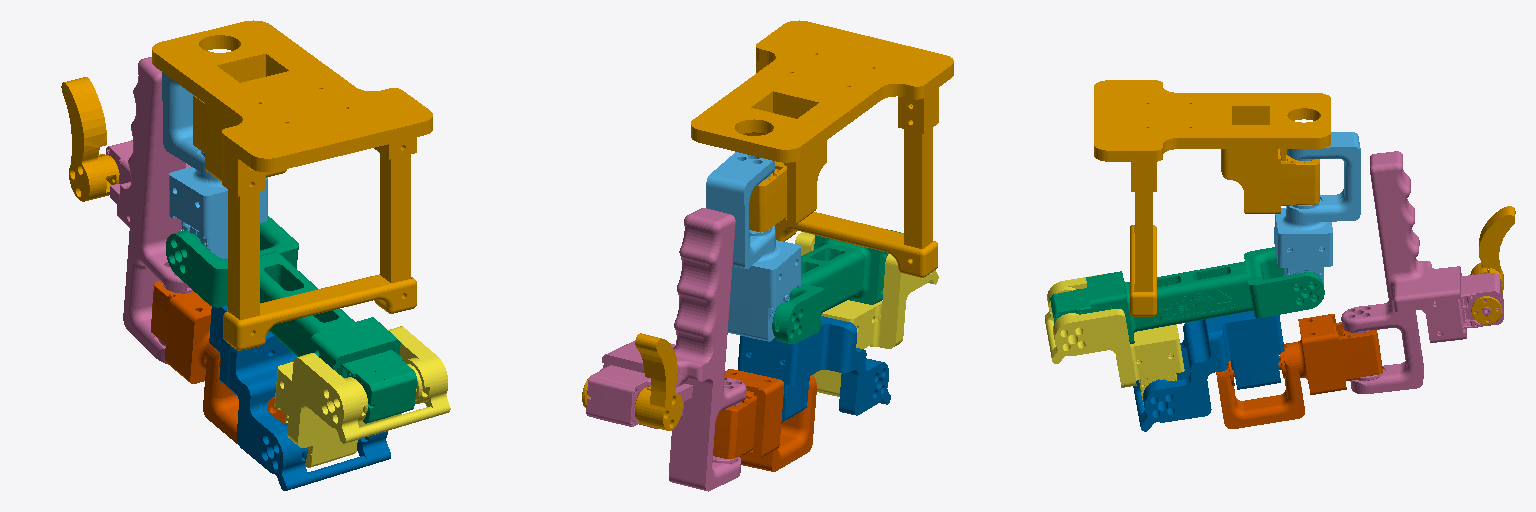
URDF robot description (uarm_config2_repaired_visual):
<?xml version='1.0' encoding='utf-8'?>
<robot name="uarm_config2_repaired_visual">
  <link name="base_link">
    <visual>
      <geometry>
        <mesh filename="base_link.stl" scale="1 1 1" />
      </geometry>
    </visual>
    <collision>
      <geometry>
        <mesh filename="base_link.stl" scale="1 1 1" />
      </geometry>
    </collision>
  </link>
  <link name="link1">
    <visual>
      <geometry>
        <mesh filename="link1.stl" scale="1 1 1" />
      </geometry>
    </visual>
    <collision>
      <geometry>
        <mesh filename="link1.stl" scale="1 1 1" />
      </geometry>
    </collision>
  </link>
  <link name="link2">
    <visual>
      <geometry>
        <mesh filename="link2.stl" scale="1 1 1" />
      </geometry>
    </visual>
    <collision>
      <geometry>
        <mesh filename="link2.stl" scale="1 1 1" />
      </geometry>
    </collision>
  </link>
  <link name="link3">
    <visual>
      <geometry>
        <mesh filename="link3.stl" scale="1 1 1" />
      </geometry>
    </visual>
    <collision>
      <geometry>
        <mesh filename="link3.stl" scale="1 1 1" />
      </geometry>
    </collision>
  </link>
  <link name="link4">
    <visual>
      <geometry>
        <mesh filename="link4.stl" scale="1 1 1" />
      </geometry>
    </visual>
    <collision>
      <geometry>
        <mesh filename="link4.stl" scale="1 1 1" />
      </geometry>
    </collision>
  </link>
  <link name="link5">
    <visual>
      <geometry>
        <mesh filename="link5.stl" scale="1 1 1" />
      </geometry>
    </visual>
    <collision>
      <geometry>
        <mesh filename="link5.stl" scale="1 1 1" />
      </geometry>
    </collision>
  </link>
  <link name="link6">
    <visual>
      <geometry>
        <mesh filename="link6.stl" scale="1 1 1" />
      </geometry>
    </visual>
    <collision>
      <geometry>
        <mesh filename="link6.stl" scale="1 1 1" />
      </geometry>
    </collision>
  </link>
  <joint name="joint1" type="continuous">
    <parent link="base_link" />
    <child link="link1" />
    <origin xyz="-0.08658114044817233 0.046659853944596305 0.11858141748276414" rpy="-0.00872664626 -4.440892098500626e-16 3.469446951953614e-18" />
    <axis xyz="0 0 1" />
    <limit effort="1" velocity="6.28318531" />
  </joint>
  <joint name="joint2" type="continuous">
    <parent link="link1" />
    <child link="link2" />
    <origin xyz="0.004061095285957522 0.00039647338195671067 -0.06713444610278956" rpy="-0.7843287810000079 -1.5584680099999997 -2.291919849999992" />
    <axis xyz="0 0 1" />
    <limit effort="1" velocity="6.28318531" />
  </joint>
  <joint name="joint3" type="continuous">
    <parent link="link2" />
    <child link="link3" />
    <origin xyz="-0.025630710555286207 0.15339323276039843 4.920744263850474e-06" rpy="0.008606016479999996 0.0014459899300001133 8.264550330000075e-05" />
    <axis xyz="0 0 1" />
    <limit effort="1" velocity="6.28318531" />
  </joint>
  <joint name="joint4" type="continuous">
    <parent link="link3" />
    <child link="link4" />
    <origin xyz="-0.049491961855527844 -0.05873502499891754 0.0010171489711825188" rpy="-0.0012738504100000014 0.00863317441000011 -2.3230171600000112e-05" />
    <axis xyz="0 0 1" />
    <limit effort="1" velocity="6.28318531" />
  </joint>
  <joint name="joint5" type="continuous">
    <parent link="link4" />
    <child link="link5" />
    <origin xyz="0.011621540847943273 -0.06778105240726977 -0.003707712741363639" rpy="-1.5707963299999648 -1.56288489 -3.001830100000035" />
    <axis xyz="0 0 1" />
    <limit effort="1" velocity="6.28318531" />
  </joint>
  <joint name="joint6" type="continuous">
    <parent link="link5" />
    <child link="link6" />
    <origin xyz="0.0003427623298188631 0.0034648529691476485 0.06713444611594567" rpy="1.5620454000000001 0.07450727070000007 -0.004068700780000101" />
    <axis xyz="0 0 1" />
    <limit effort="1" velocity="6.28318531" />
  </joint>
  <link name="tool0" />
  <joint name="tool0_fixed" type="fixed">
    <parent link="link6" />
    <child link="tool0" />
    <origin xyz="0.017135744404283365 0.08531980020434289 0.03853062780764309" rpy="1.5707963404414487 -1.4390999305933807 1.5674936356501743" />
  </joint>
  <link name="trigger">
    <visual>
      <geometry>
        <mesh filename="trigger.stl" scale="1 1 1" />
      </geometry>
    </visual>
    <collision>
      <geometry>
        <mesh filename="trigger.stl" scale="1 1 1" />
      </geometry>
    </collision>
  </link>
  <joint name="trigger_joint" type="continuous">
    <parent link="link6" />
    <child link="trigger" />
    <origin xyz="0.017135744404283365 0.08531980020434289 0.03853062780764309" rpy="1.5707963404414487 -1.4390999305933807 1.5674936356501743" />
    <axis xyz="0 0 1" />
    <limit effort="1" velocity="6.28318531" />
  </joint>
</robot>

--- Facts derived from the render (not from the file) ---
Views: 3 orthographic renders of the robot side by side, from view 1: azimuth 30°, elevation 25°; view 2: azimuth 150°, elevation 25°; view 3: azimuth 270°, elevation 25°.
Model uarm_config2_repaired_visual with 9 links and 8 joints (7 continuous, 1 fixed), rooted at base_link, posed all joints at 0.
Visible links, largest first — view 1: base_link, link2, link6, link3, link4, link1, link5, trigger; view 2: base_link, link6, link1, link4, link5, link2, link3, trigger; view 3: base_link, link6, link2, link4, link5, link3, link1, trigger.
Boxes of the visible links, box(x1,y1,x2,y2) form: base_link: box(152, 20, 432, 350); link2: box(166, 216, 416, 423); link6: box(106, 57, 193, 363); link3: box(274, 326, 450, 467); link4: box(209, 306, 390, 490); link1: box(162, 51, 267, 258); link5: box(151, 281, 285, 443); trigger: box(61, 77, 119, 201); base_link: box(691, 20, 953, 277); link6: box(586, 208, 746, 491); link1: box(706, 152, 800, 341); link4: box(738, 316, 890, 422); link5: box(713, 369, 816, 471); link2: box(772, 229, 900, 344); link3: box(795, 232, 938, 396); trigger: box(582, 333, 682, 430); base_link: box(1094, 80, 1330, 316); link6: box(1341, 151, 1503, 393); link2: box(1050, 247, 1324, 343); link4: box(1133, 311, 1284, 431); link5: box(1216, 314, 1382, 428); link3: box(1045, 273, 1184, 404); link1: box(1274, 132, 1360, 284); trigger: box(1470, 206, 1515, 324).
Size in the robot's own frame: 0.1097 by 0.3075 by 0.2187 metres.
8 mesh visuals loaded from 8 distinct referenced files (8 binary STL).
